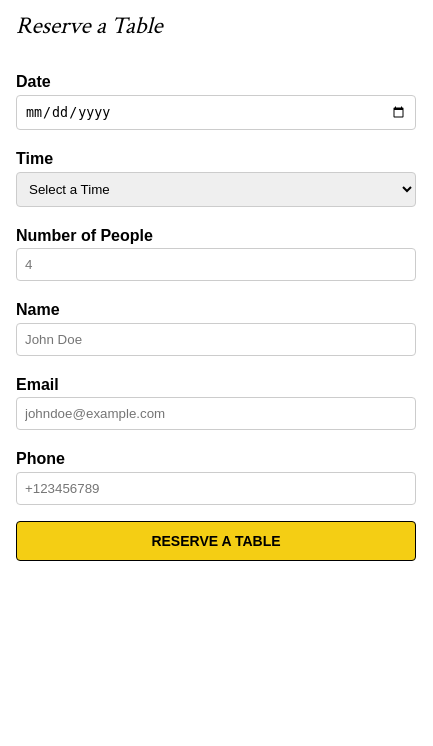
ReservationForm › should display error messages when required fields are left empty
The image size is (433, 746).
What coordinates should you click on to do the following:
click the button "Reserve a Table"
I would click on:
 (216, 541)
Its box is [16,521,416,561].
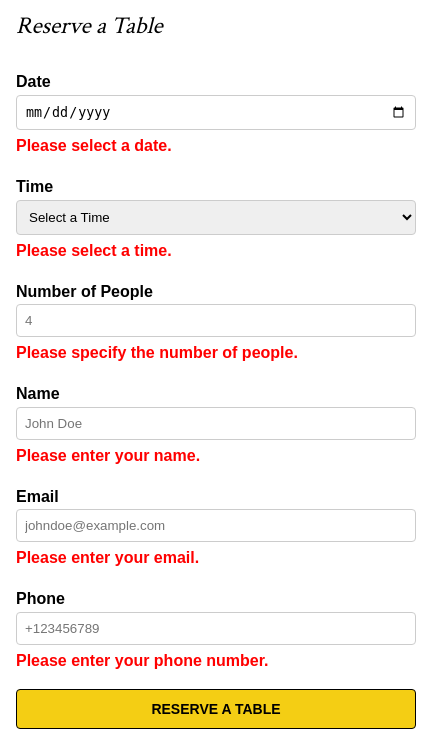
Now the text "Please select a date." is shown, box [16,137,172,154]
Now the text "Please select a time." is shown, box [16,242,172,259]
Now the text "Please specify the number of people." is shown, box [16,344,298,361]
